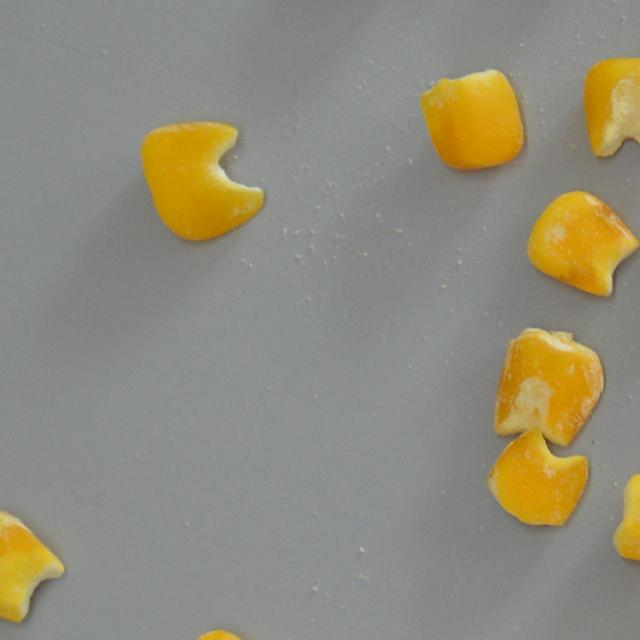no_canjicado: (420, 68, 526, 173), (486, 428, 588, 525), (582, 55, 640, 160), (612, 468, 640, 571)
pelicula: (139, 120, 264, 240), (492, 326, 605, 448), (525, 187, 640, 298), (0, 507, 66, 624), (178, 627, 286, 640)
